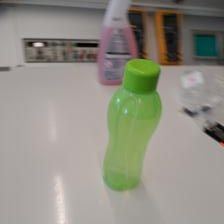bottle: (100, 57, 163, 191)
